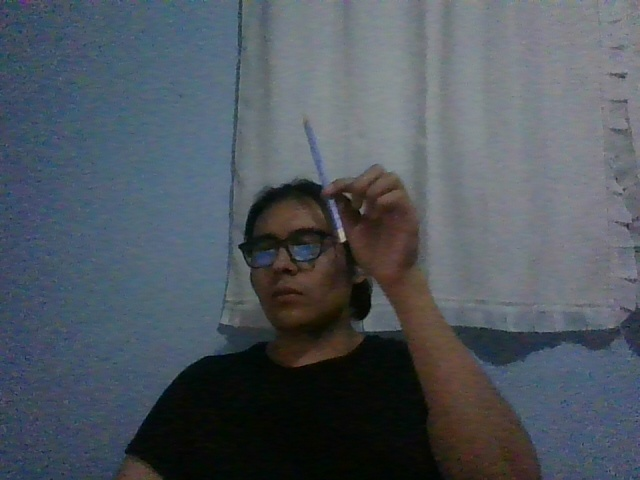lapiz: (302, 115, 347, 244)
